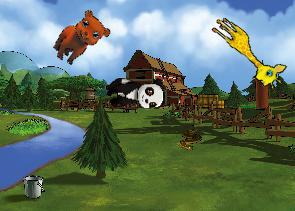bear: (48, 4, 114, 75)
giraffe: (202, 13, 291, 93)
panda: (105, 77, 165, 110)
